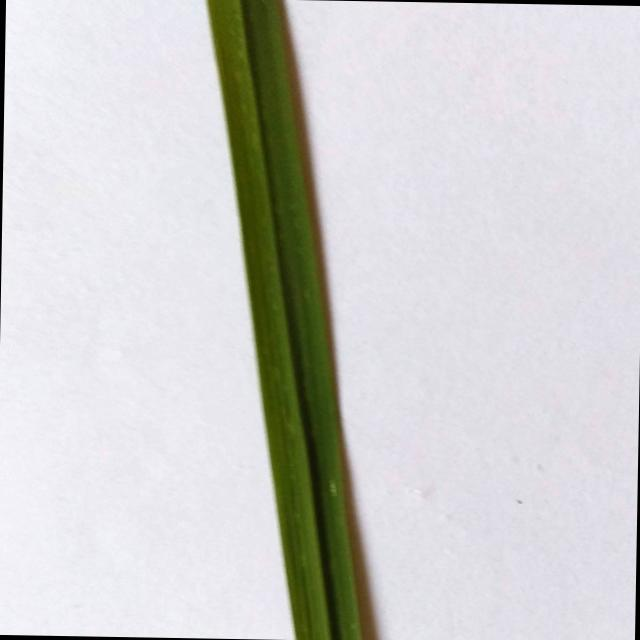Rice_Healthy: (206, 0, 365, 640)
